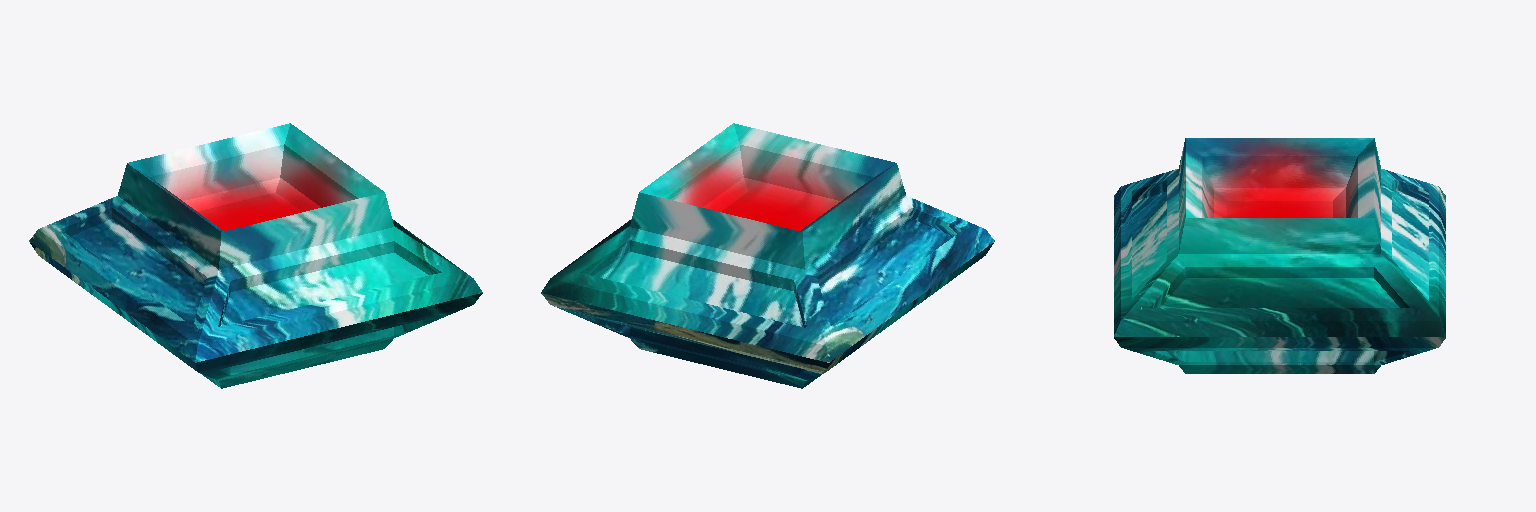
3 renders of one model, left to right at view 1: azimuth 30°, elevation 25°; view 2: azimuth 150°, elevation 25°; view 3: azimuth 270°, elevation 25°, orthographic.
Visible parts, largest first — view 1: 立方体; view 2: 立方体; view 3: 立方体.
Part boxes in pixels (x1,y1,x2,y2): 立方体: (29, 123, 482, 388); 立方体: (541, 123, 994, 388); 立方体: (1114, 138, 1445, 373).
Bounding box in the file's own units: 4.38 × 2.28 × 4.38.
Materials: 1 (1 with a texture image).